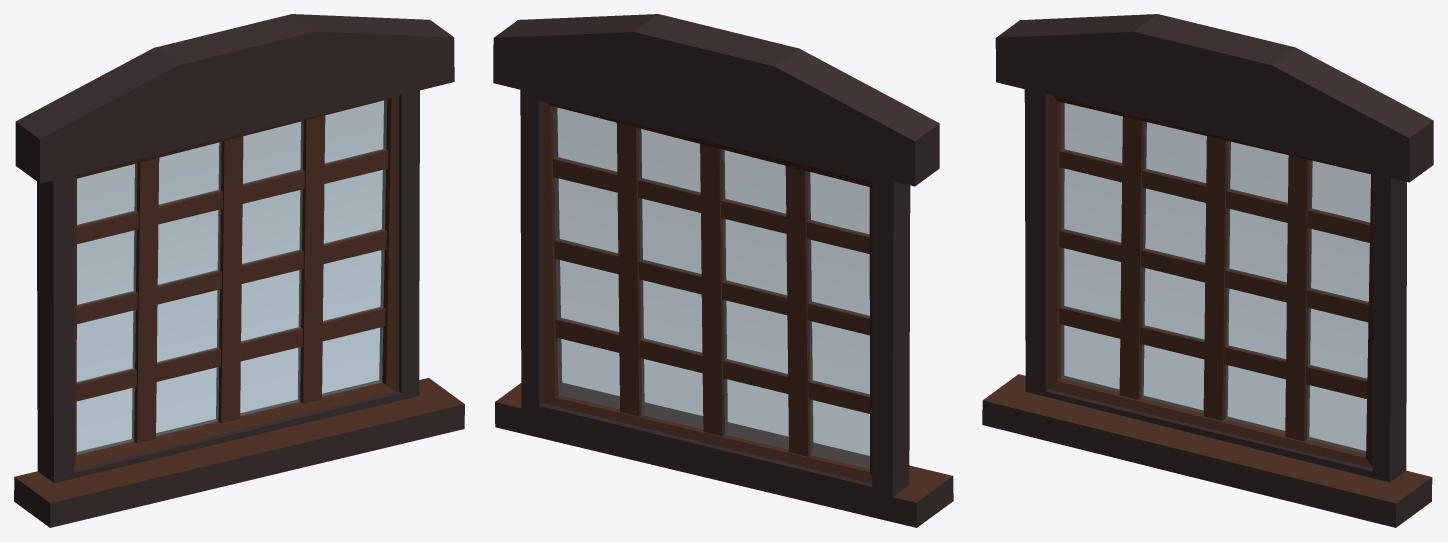
The model's file is Window 4x4 V3 Closed.glb.
3 views of the same model, side by side, from view 1: azimuth 30°, elevation 25°; view 2: azimuth 150°, elevation 25°; view 3: azimuth 330°, elevation 25° (orthographic).
Parts seen in each view (by area): view 1: Window 4x4 V3 Closed; view 2: Window 4x4 V3 Closed; view 3: Window 4x4 V3 Closed.
Part boxes in pixels (x1,y1,x2,y2): Window 4x4 V3 Closed: (14, 14, 464, 527); Window 4x4 V3 Closed: (493, 14, 953, 527); Window 4x4 V3 Closed: (982, 14, 1433, 527).
Size of the model in its own units: 2.35 by 2.28 by 0.3537.
2 materials, 2 textured.
